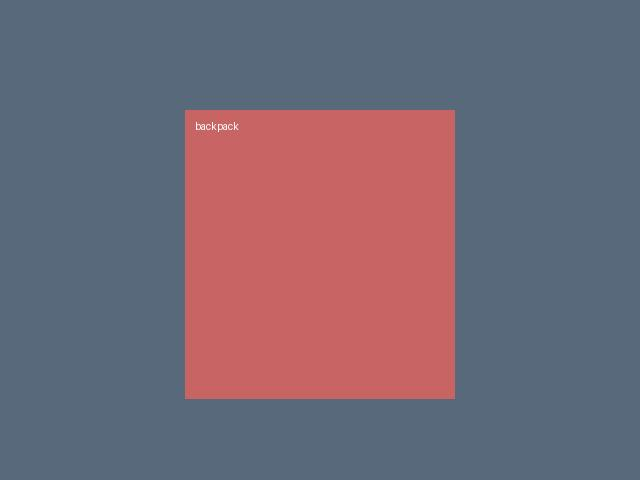backpack: (185, 110, 454, 398)
